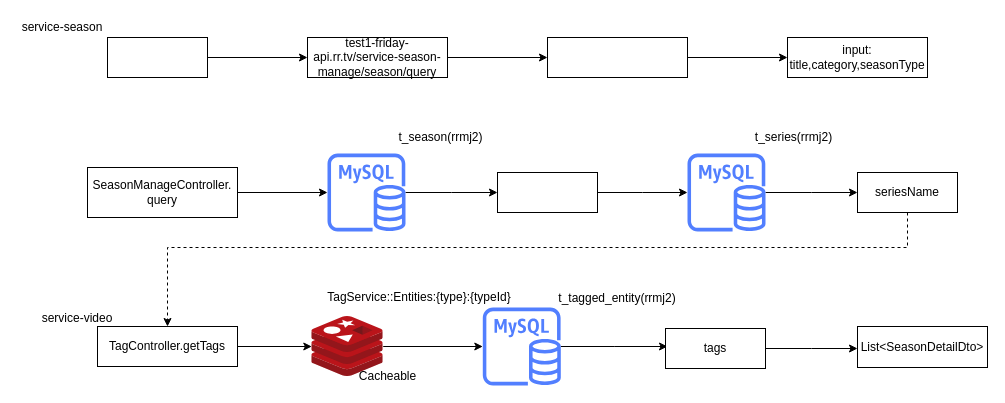
Some shapes in this 1005 by 403 pixel diagram are drawn without their labels. The shapes that lost their labels are listed below. From the top down, each one's centre as x and y in pixels, then its label:
point (157, 57): 季列表
point (617, 57): /service-season-manage/**
point (547, 192): seriesIds
